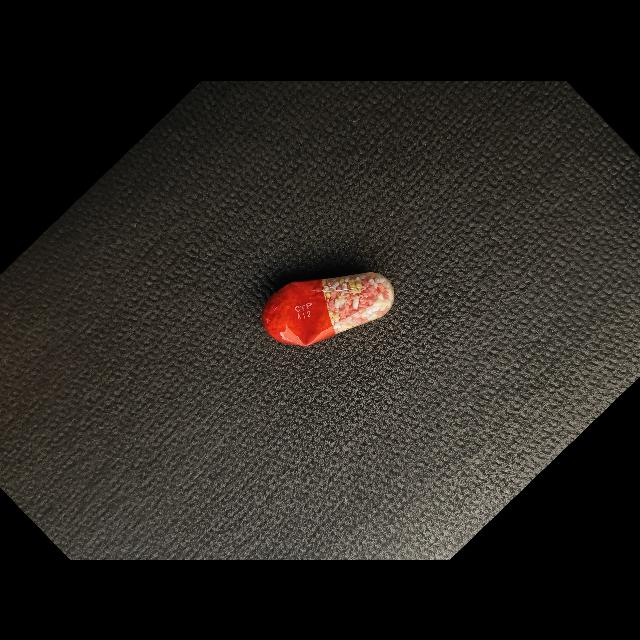Defective Capsule: (262, 272, 394, 346)
